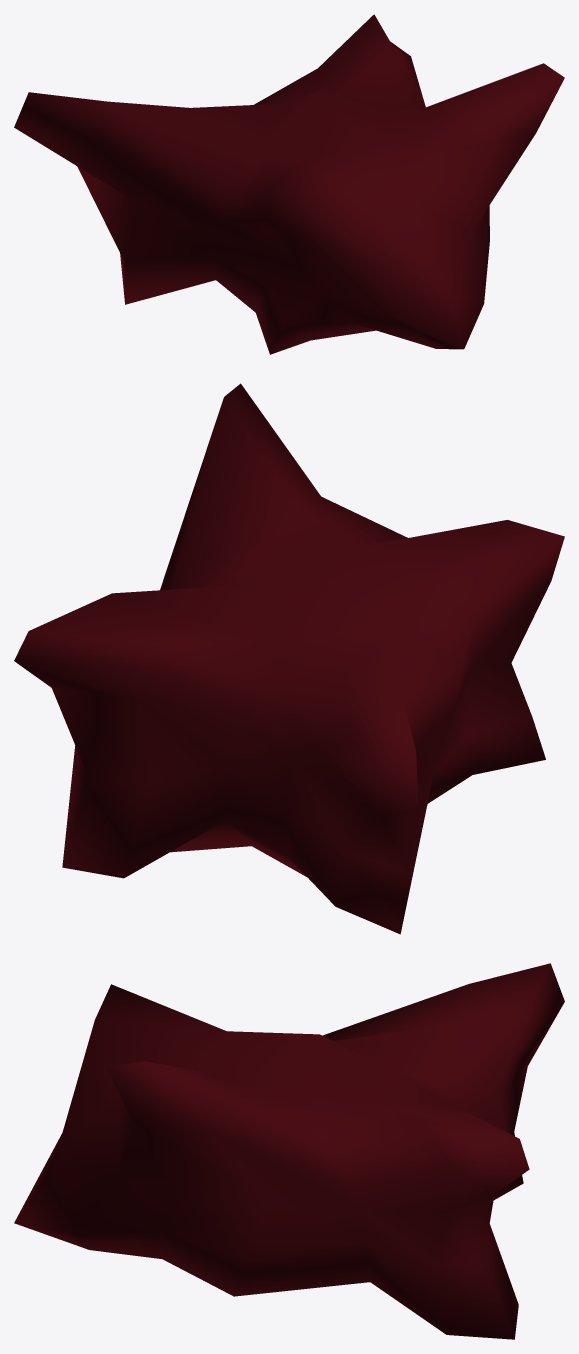
The model's file is Magnetite.fbx.
The picture shows the model from 3 angles, top to bottom: view 1: azimuth 30°, elevation 25°; view 2: azimuth 150°, elevation 25°; view 3: azimuth 270°, elevation 25°; orthographic projection. The views are drawn at different scales.
Parts seen in each view (by area): view 1: Magnetite_LOD0; view 2: Magnetite_LOD0; view 3: Magnetite_LOD0.
Boxes of the visible parts, box(x1,y1,x2,y2) form: Magnetite_LOD0: box(14, 14, 564, 354); Magnetite_LOD0: box(14, 383, 564, 934); Magnetite_LOD0: box(14, 963, 564, 1339).
Size of what is drawn, in the model's own units: 0.2616 by 0.1958 by 0.316.
